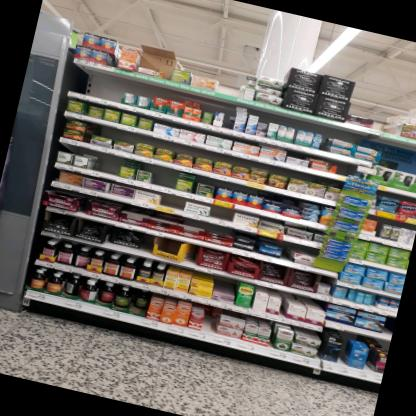empty_space: (102, 76, 126, 105), (80, 72, 105, 98), (152, 166, 179, 189), (217, 74, 242, 97), (96, 153, 121, 175), (210, 206, 235, 225), (161, 194, 185, 211), (337, 161, 357, 179), (373, 111, 387, 133), (160, 60, 173, 80), (223, 112, 235, 130)
